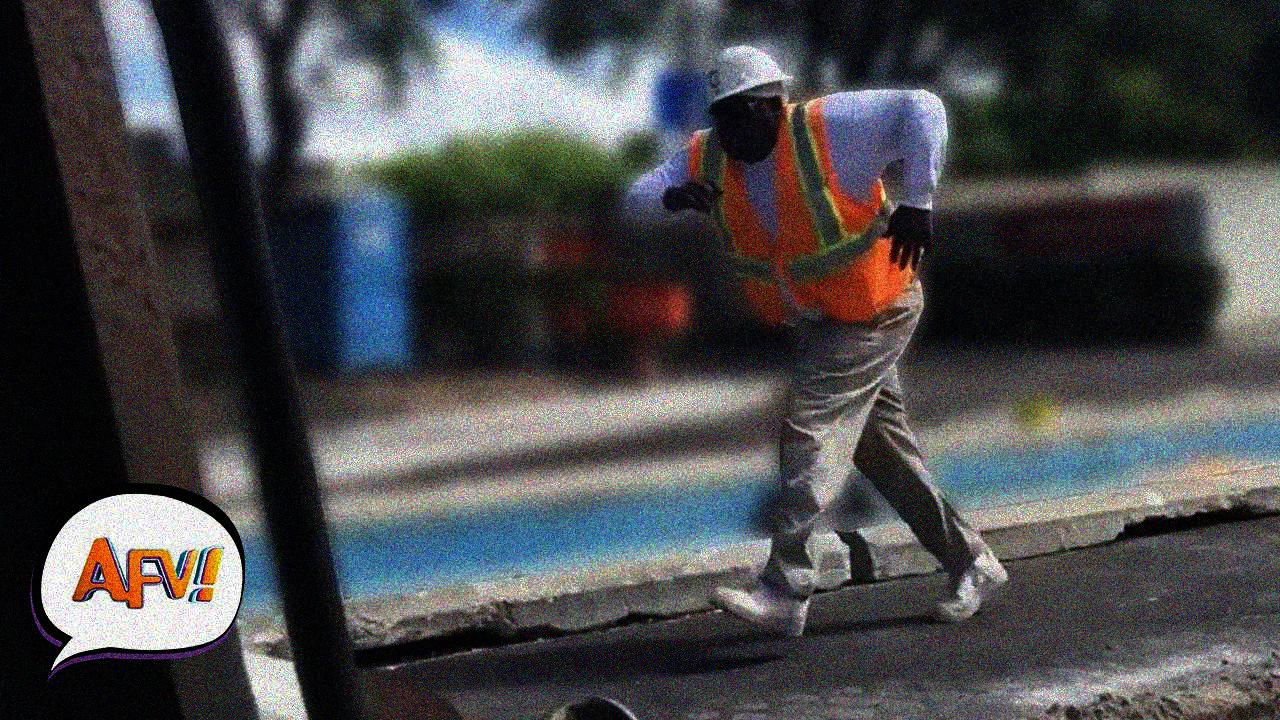helmet: (695, 39, 794, 160)
